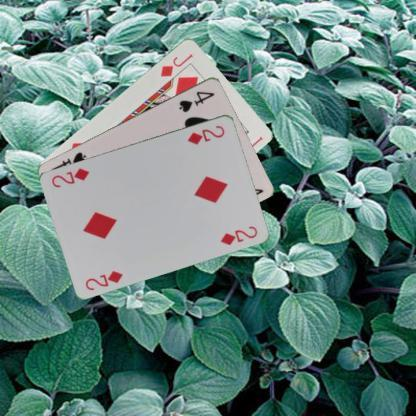2d: (82, 268, 124, 292), (185, 122, 226, 146)
4s: (176, 88, 216, 113)
Jd: (158, 51, 194, 78)
